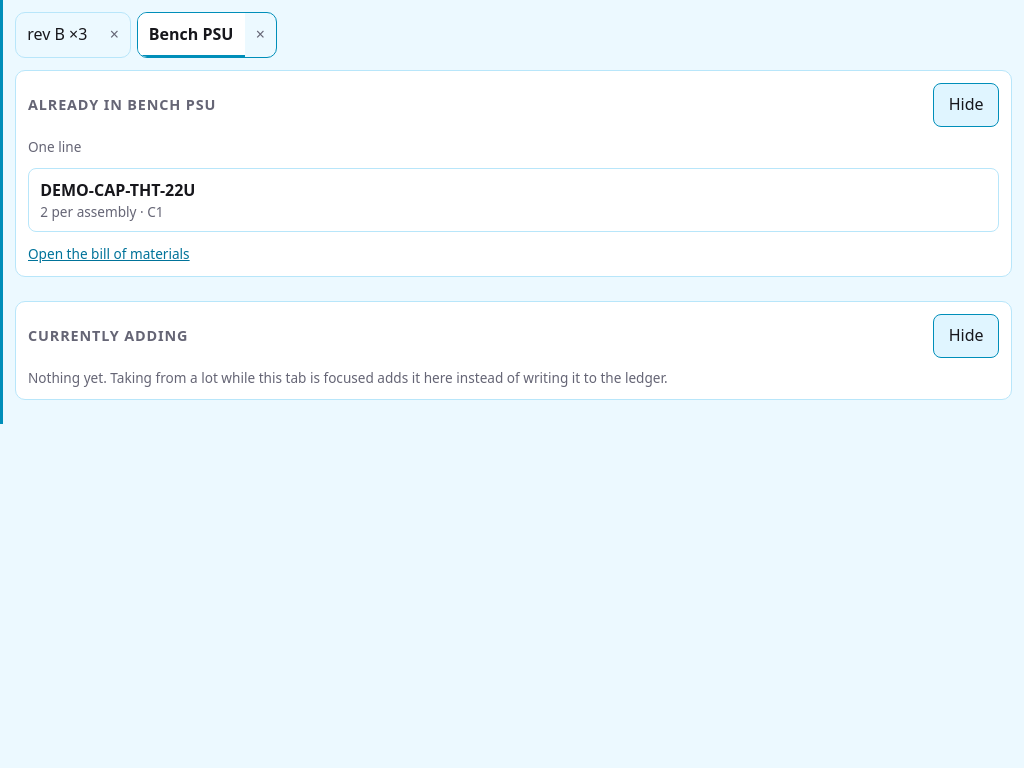
switching tabs › reads the newly focused target's record rather than reusing the last one
expect the text "DEMO-CAP-THT-22U" is shown: met, box [40, 179, 196, 201]
What coordinates should you click on to do the following:
click the tab "rev B ×3"
I would click on:
 (57, 35)
Its box is [16, 13, 98, 57].
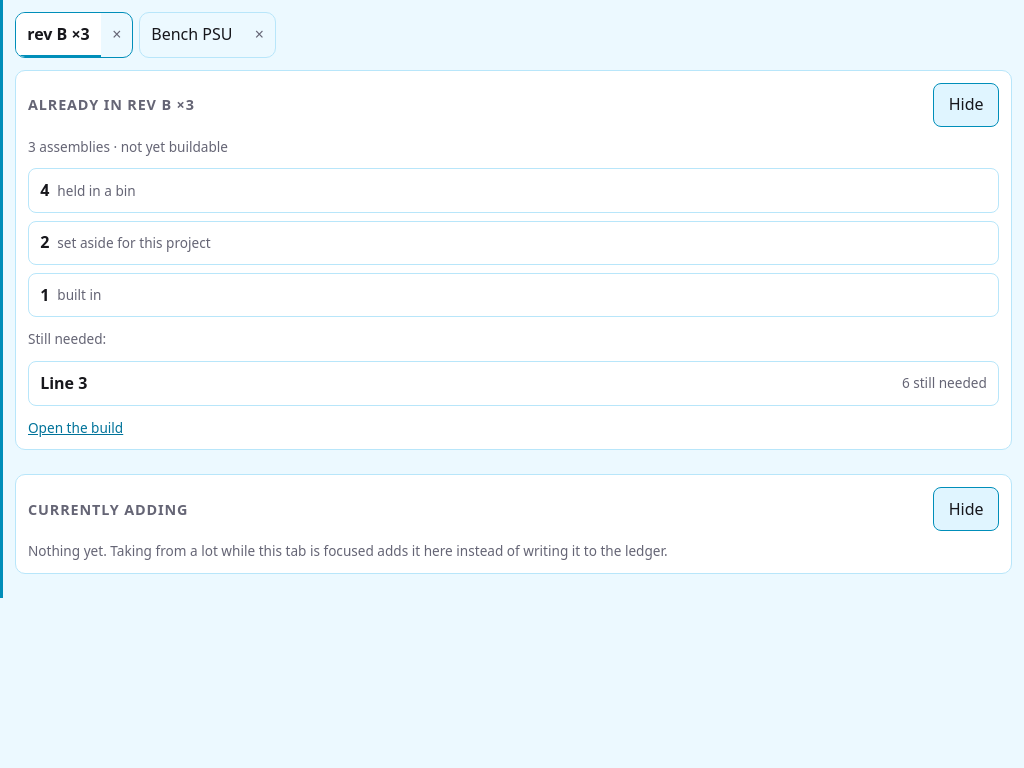
expect the text "held in a bin" is shown: met, box [57, 181, 136, 200]
expect the text "DEMO-CAP-THT-22U" is gone: met
